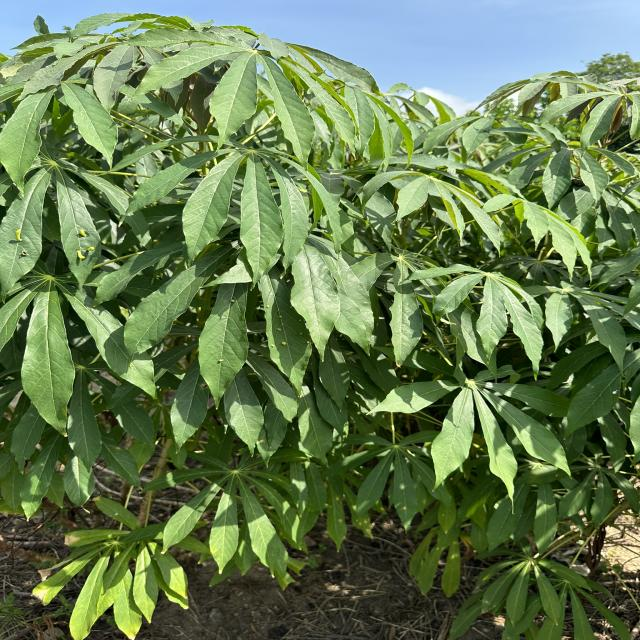Mosca: (70, 243, 105, 270), (267, 311, 285, 351), (296, 312, 312, 348), (10, 226, 31, 243), (70, 223, 91, 237), (209, 355, 231, 367)
